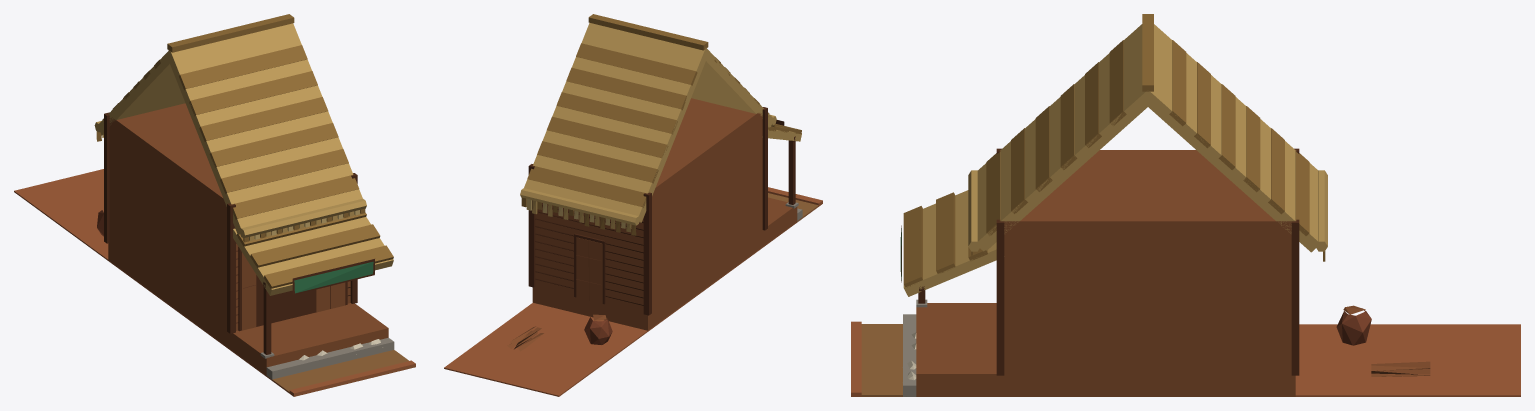
File: bay2_mid2.glb
3 views of the same model, side by side, from view 1: azimuth 30°, elevation 25°; view 2: azimuth 150°, elevation 25°; view 3: azimuth 270°, elevation 25° (orthographic). The views are drawn at different scales.
Visible parts, largest first — view 1: body; view 2: body; view 3: body.
Boxes of the visible parts, x1,y1,x2,y2 form: body: [14, 14, 415, 396]; body: [444, 14, 822, 396]; body: [851, 14, 1520, 396].
Bounding box in the file's own units: 4.18 × 8.17 × 15.9.
